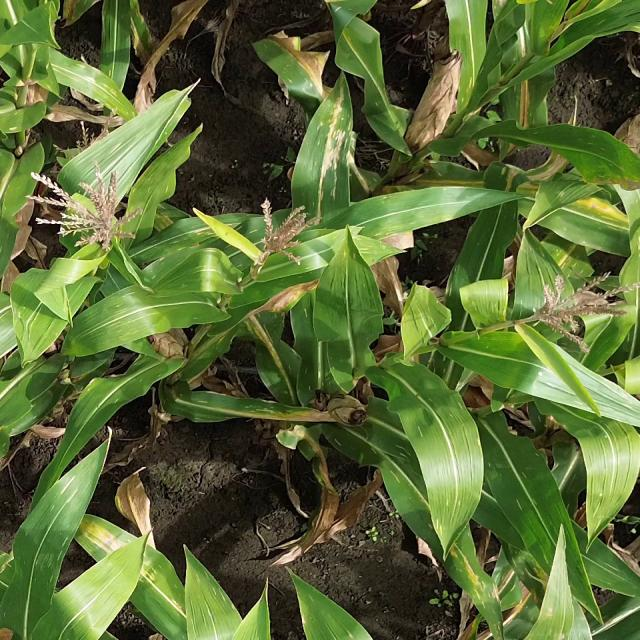gray-leaf-spot: (96, 522, 183, 610), (27, 480, 72, 589), (484, 450, 557, 517), (56, 59, 132, 112), (310, 118, 353, 207), (451, 549, 503, 612), (361, 431, 416, 485), (423, 488, 482, 538), (568, 130, 628, 177), (138, 257, 216, 293), (192, 565, 238, 622), (140, 222, 222, 252), (96, 288, 145, 337), (573, 204, 634, 241), (124, 173, 172, 219), (545, 243, 595, 284), (507, 545, 552, 584)
northern-leaf-blight: (195, 393, 326, 428), (272, 36, 332, 104), (243, 311, 297, 382), (507, 40, 544, 132)
